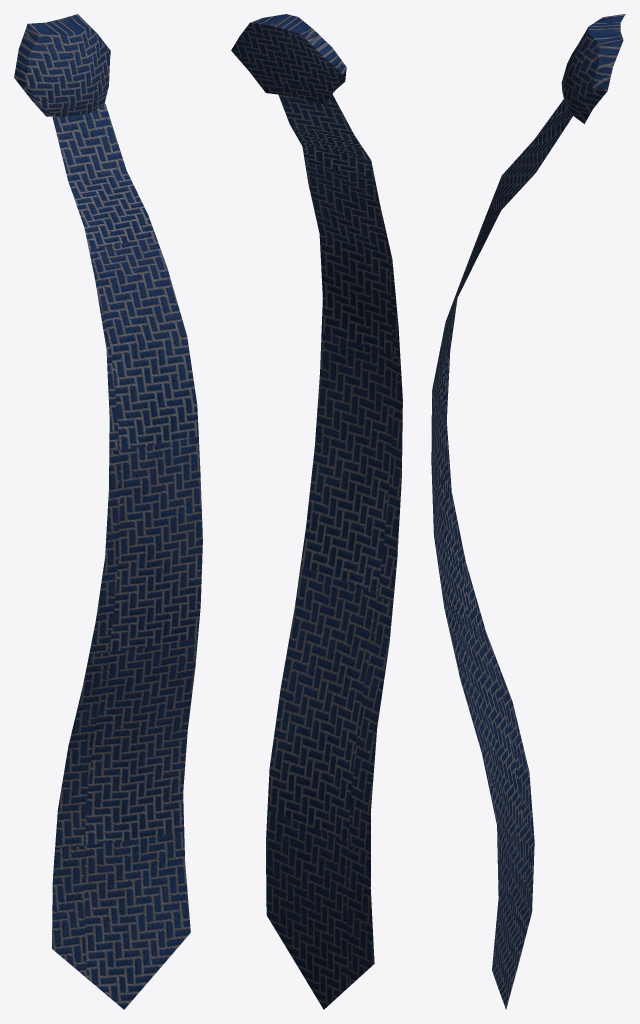
Rendered from Pose-3_SuitTie-3.fbx.
3 renders of one model, left to right at view 1: azimuth 30°, elevation 25°; view 2: azimuth 150°, elevation 25°; view 3: azimuth 270°, elevation 25°, orthographic. The views are drawn at different scales.
Parts seen in each view (by area): view 1: Pose-3_SuitTie-3; view 2: Pose-3_SuitTie-3; view 3: Pose-3_SuitTie-3.
Boxes of the visible parts, x1,y1,x2,y2 form: Pose-3_SuitTie-3: [14, 14, 202, 1009]; Pose-3_SuitTie-3: [231, 14, 402, 1009]; Pose-3_SuitTie-3: [431, 14, 625, 1009].
Size of the model in its own units: 6.98 by 51.34 by 9.25.
